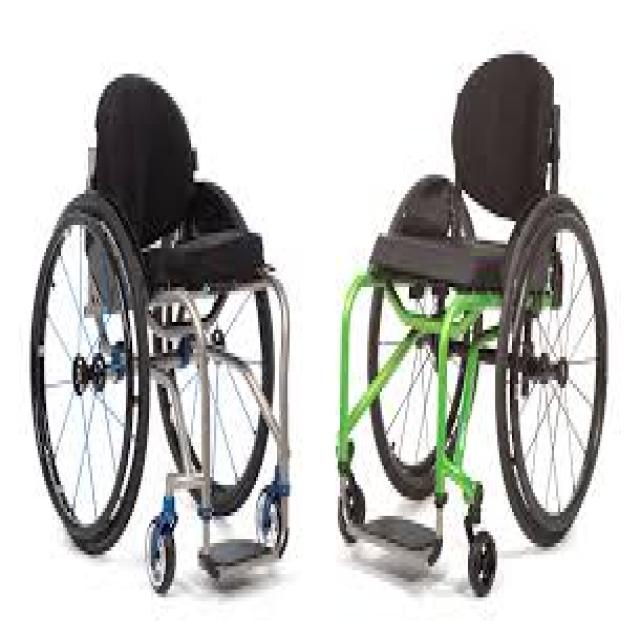wheelchairs: (329, 50, 613, 609), (23, 62, 302, 605)
